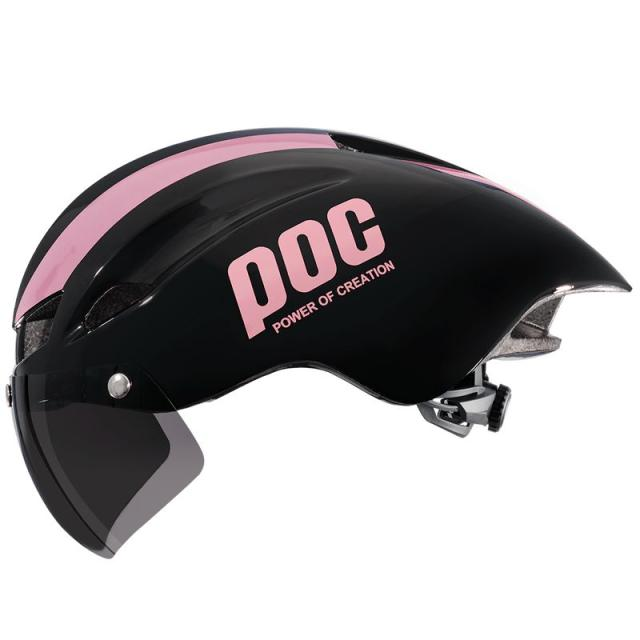Helmet: (6, 123, 632, 559)
